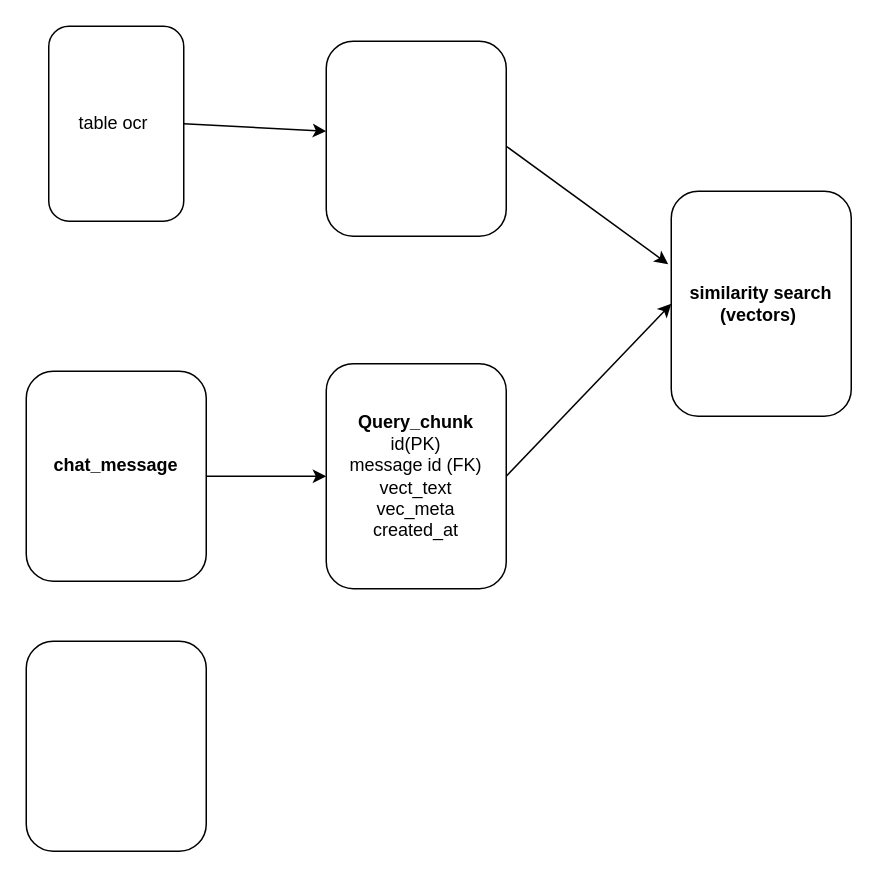
The diagram is 878 pixels wide and 878 high, and some of its shapes have lost their labels. The shapes that lost their labels are listed below. From the top down, each one's centre as x and y in pixels, then its label:
point 415,138: chunks_ id(PK) ocr_id(FK) Vec_text vec_meta vec_vectore created_at
point 115,745: response id(PK) response_message created_at
